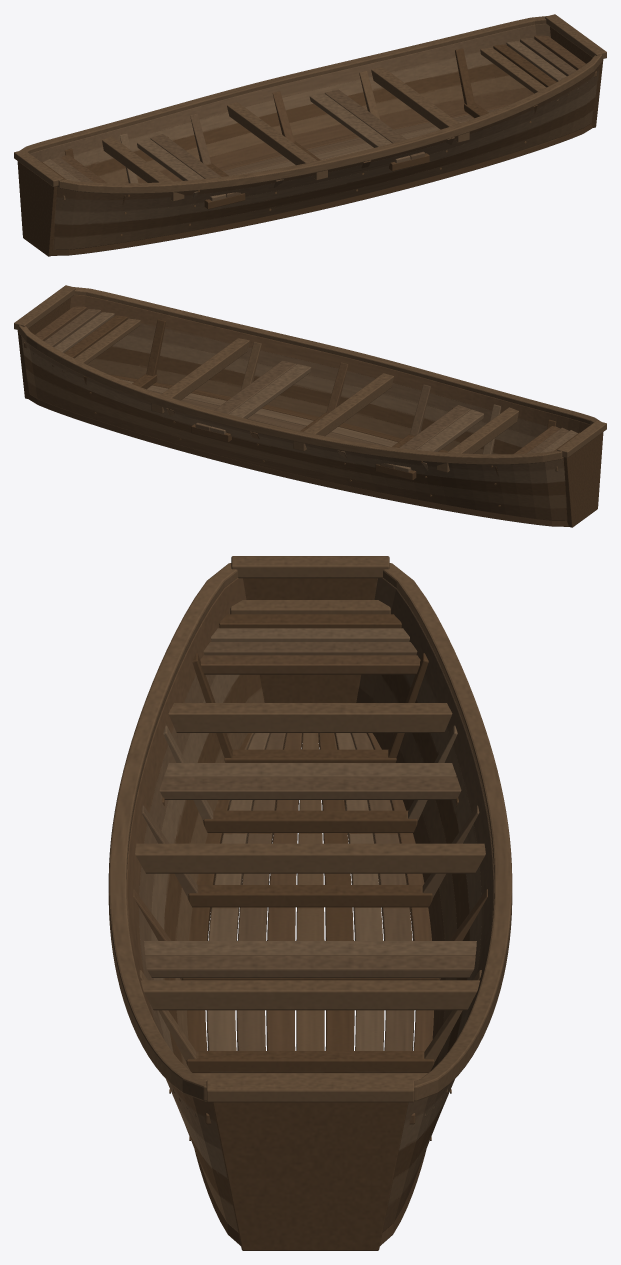
Rendered from Ferryboat.fbx.
3 renders of one model, top to bottom at view 1: azimuth 30°, elevation 25°; view 2: azimuth 150°, elevation 25°; view 3: azimuth 270°, elevation 25°, orthographic. The views are drawn at different scales.
Parts seen in each view (by area): view 1: Ferryboat_LOD0; view 2: Ferryboat_LOD0; view 3: Ferryboat_LOD0.
Boxes of the visible parts, x1,y1,x2,y2 form: Ferryboat_LOD0: (14, 14, 606, 256); Ferryboat_LOD0: (14, 285, 606, 527); Ferryboat_LOD0: (108, 556, 512, 1250).
Size of what is drawn, in the model's own units: 6.12 by 0.871 by 1.95.
